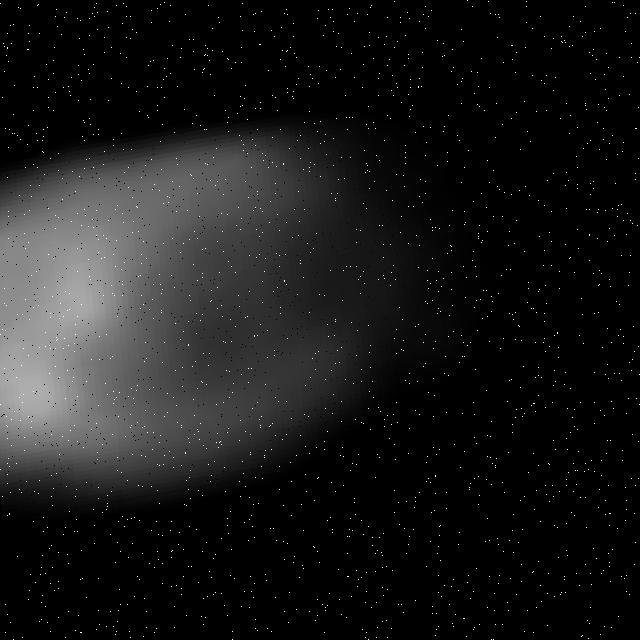person: (1, 62, 620, 549)
